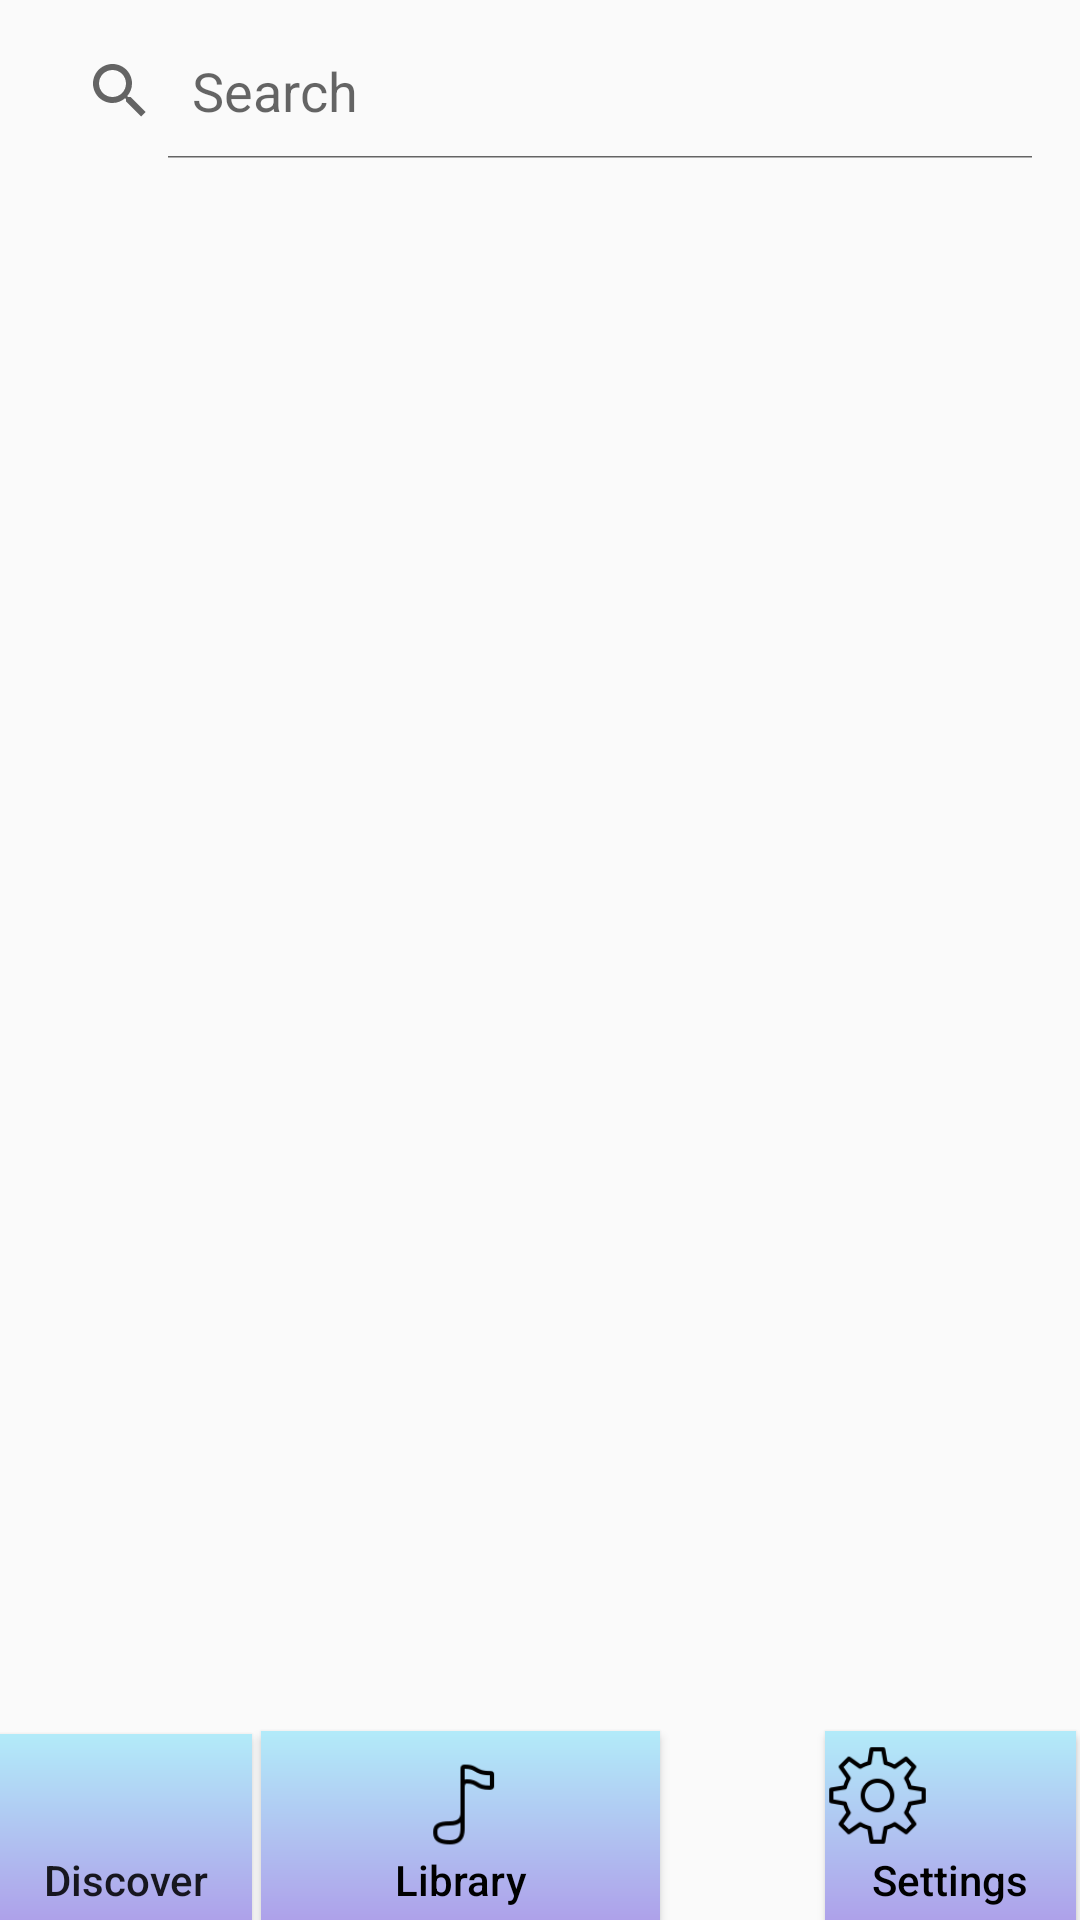

Point at icon controls on the screen. Image size 1080 x 1920, points as [x,y].
music: [460,1804]
